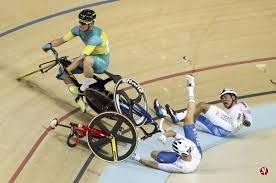falling: (161, 75, 256, 142)
